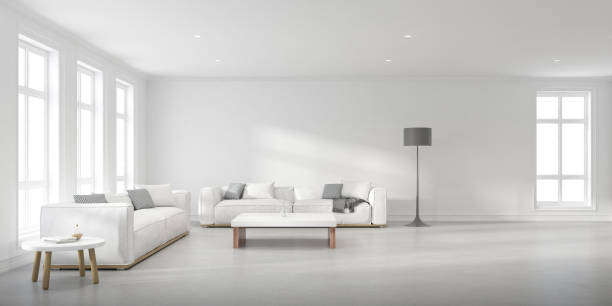floor lamp: (401, 125, 434, 229)
side table: (19, 235, 102, 290)
sofa: (37, 183, 193, 271), (197, 180, 388, 229)
table: (228, 210, 340, 253)
